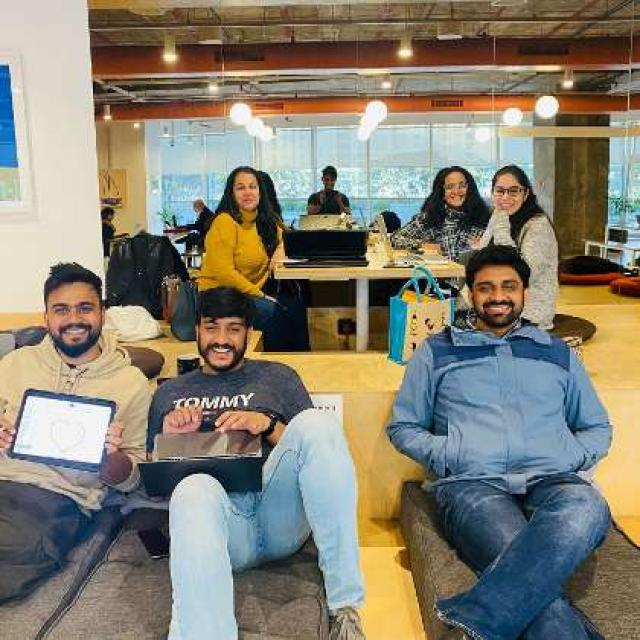nohelmet: (40, 262, 104, 352), (465, 244, 528, 331), (196, 287, 246, 370), (490, 158, 532, 216), (437, 164, 475, 212), (230, 166, 262, 212)
